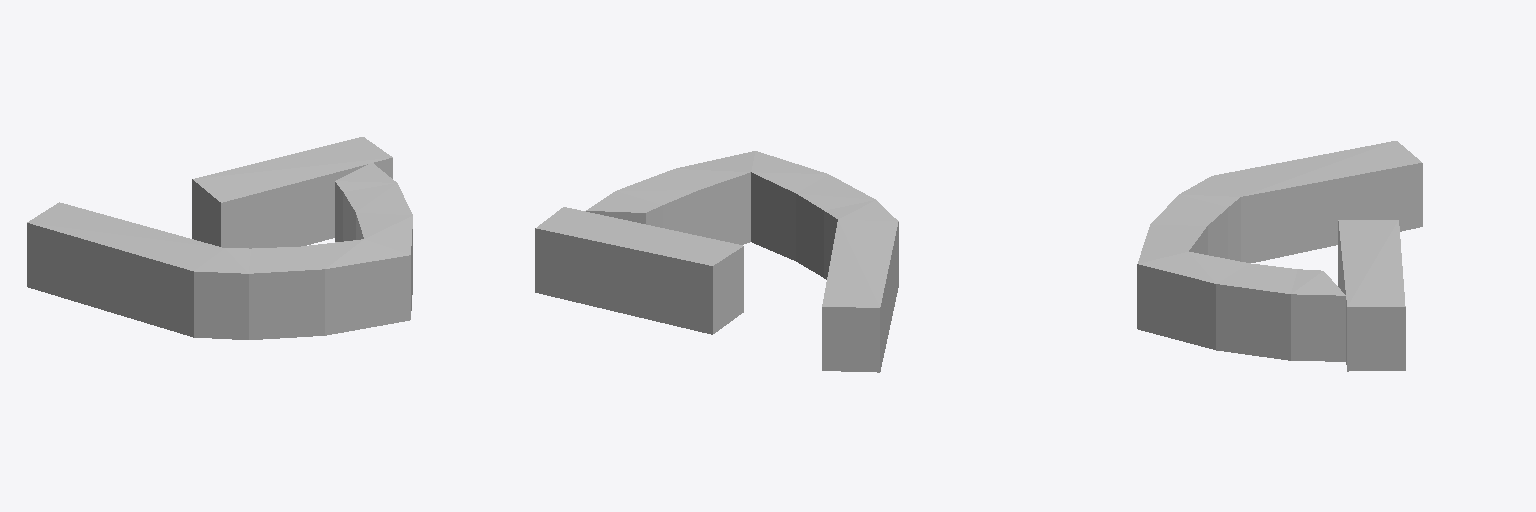
The model's file is gate-destr_05.obj.
3 renders of one model, left to right at view 1: azimuth 30°, elevation 25°; view 2: azimuth 150°, elevation 25°; view 3: azimuth 270°, elevation 25°, orthographic.
Visible parts, largest first — view 1: (null); view 2: (null); view 3: (null).
Boxes of the visible parts, box(x1,y1,x2,y2) form: (null): box(27, 137, 412, 339); (null): box(535, 151, 898, 372); (null): box(1137, 141, 1422, 371).
Size of the model in its own units: 2.81 by 0.5513 by 2.03.